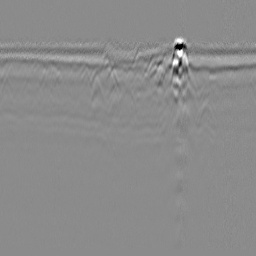cavity: (116, 83, 136, 114)
